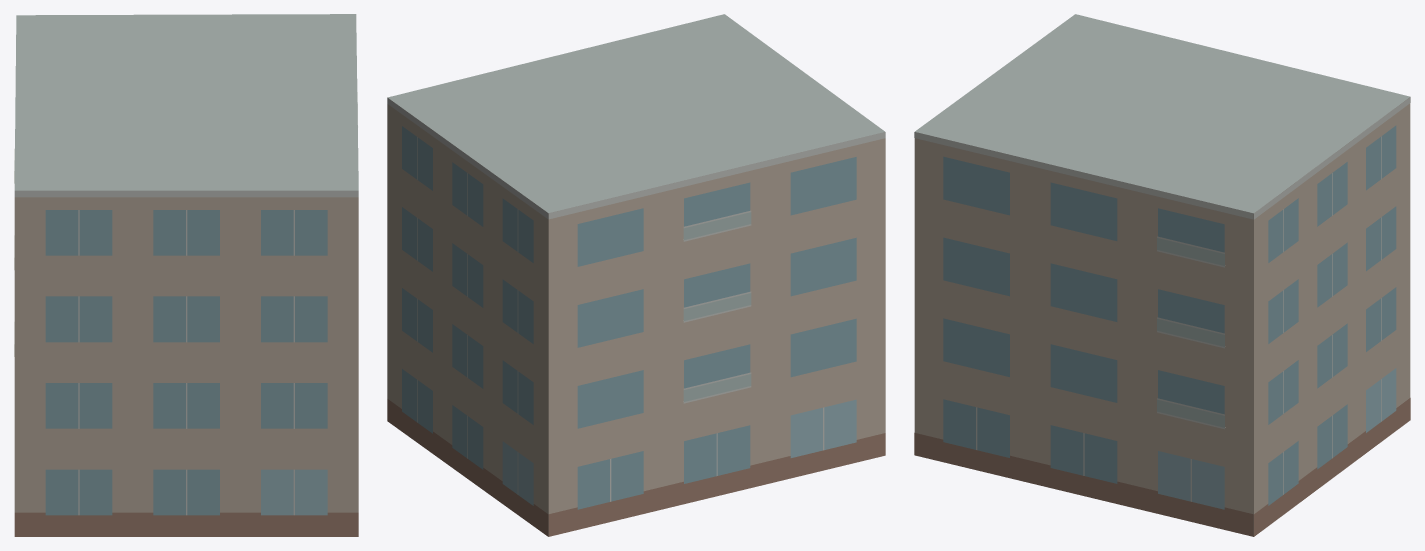
The model's file is survey-upis-32705774.glb.
The picture shows the model from 3 angles, left to right: view 1: azimuth 30°, elevation 25°; view 2: azimuth 150°, elevation 25°; view 3: azimuth 270°, elevation 25°; orthographic projection. The views are drawn at different scales.
Parts seen in each view (by area): view 1: survey-upis-32705774.tmp; view 2: survey-upis-32705774.tmp; view 3: survey-upis-32705774.tmp.
Boxes of the visible parts, <box> form: survey-upis-32705774.tmp: <box>14,14,358,536</box>; survey-upis-32705774.tmp: <box>387,14,885,536</box>; survey-upis-32705774.tmp: <box>914,14,1410,536</box>.
Bounding box in the file's own units: 16.53 × 12.5 × 17.38.
